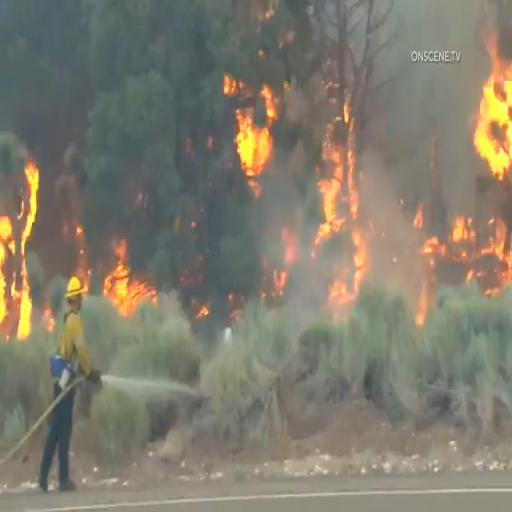fire: (0, 165, 43, 350), (324, 118, 368, 296), (474, 36, 512, 177), (229, 91, 287, 180)
smoke: (397, 80, 459, 220)
